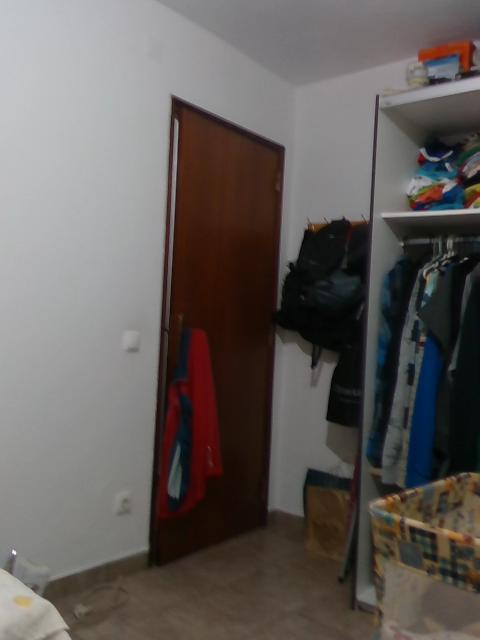door: (154, 101, 283, 573)
